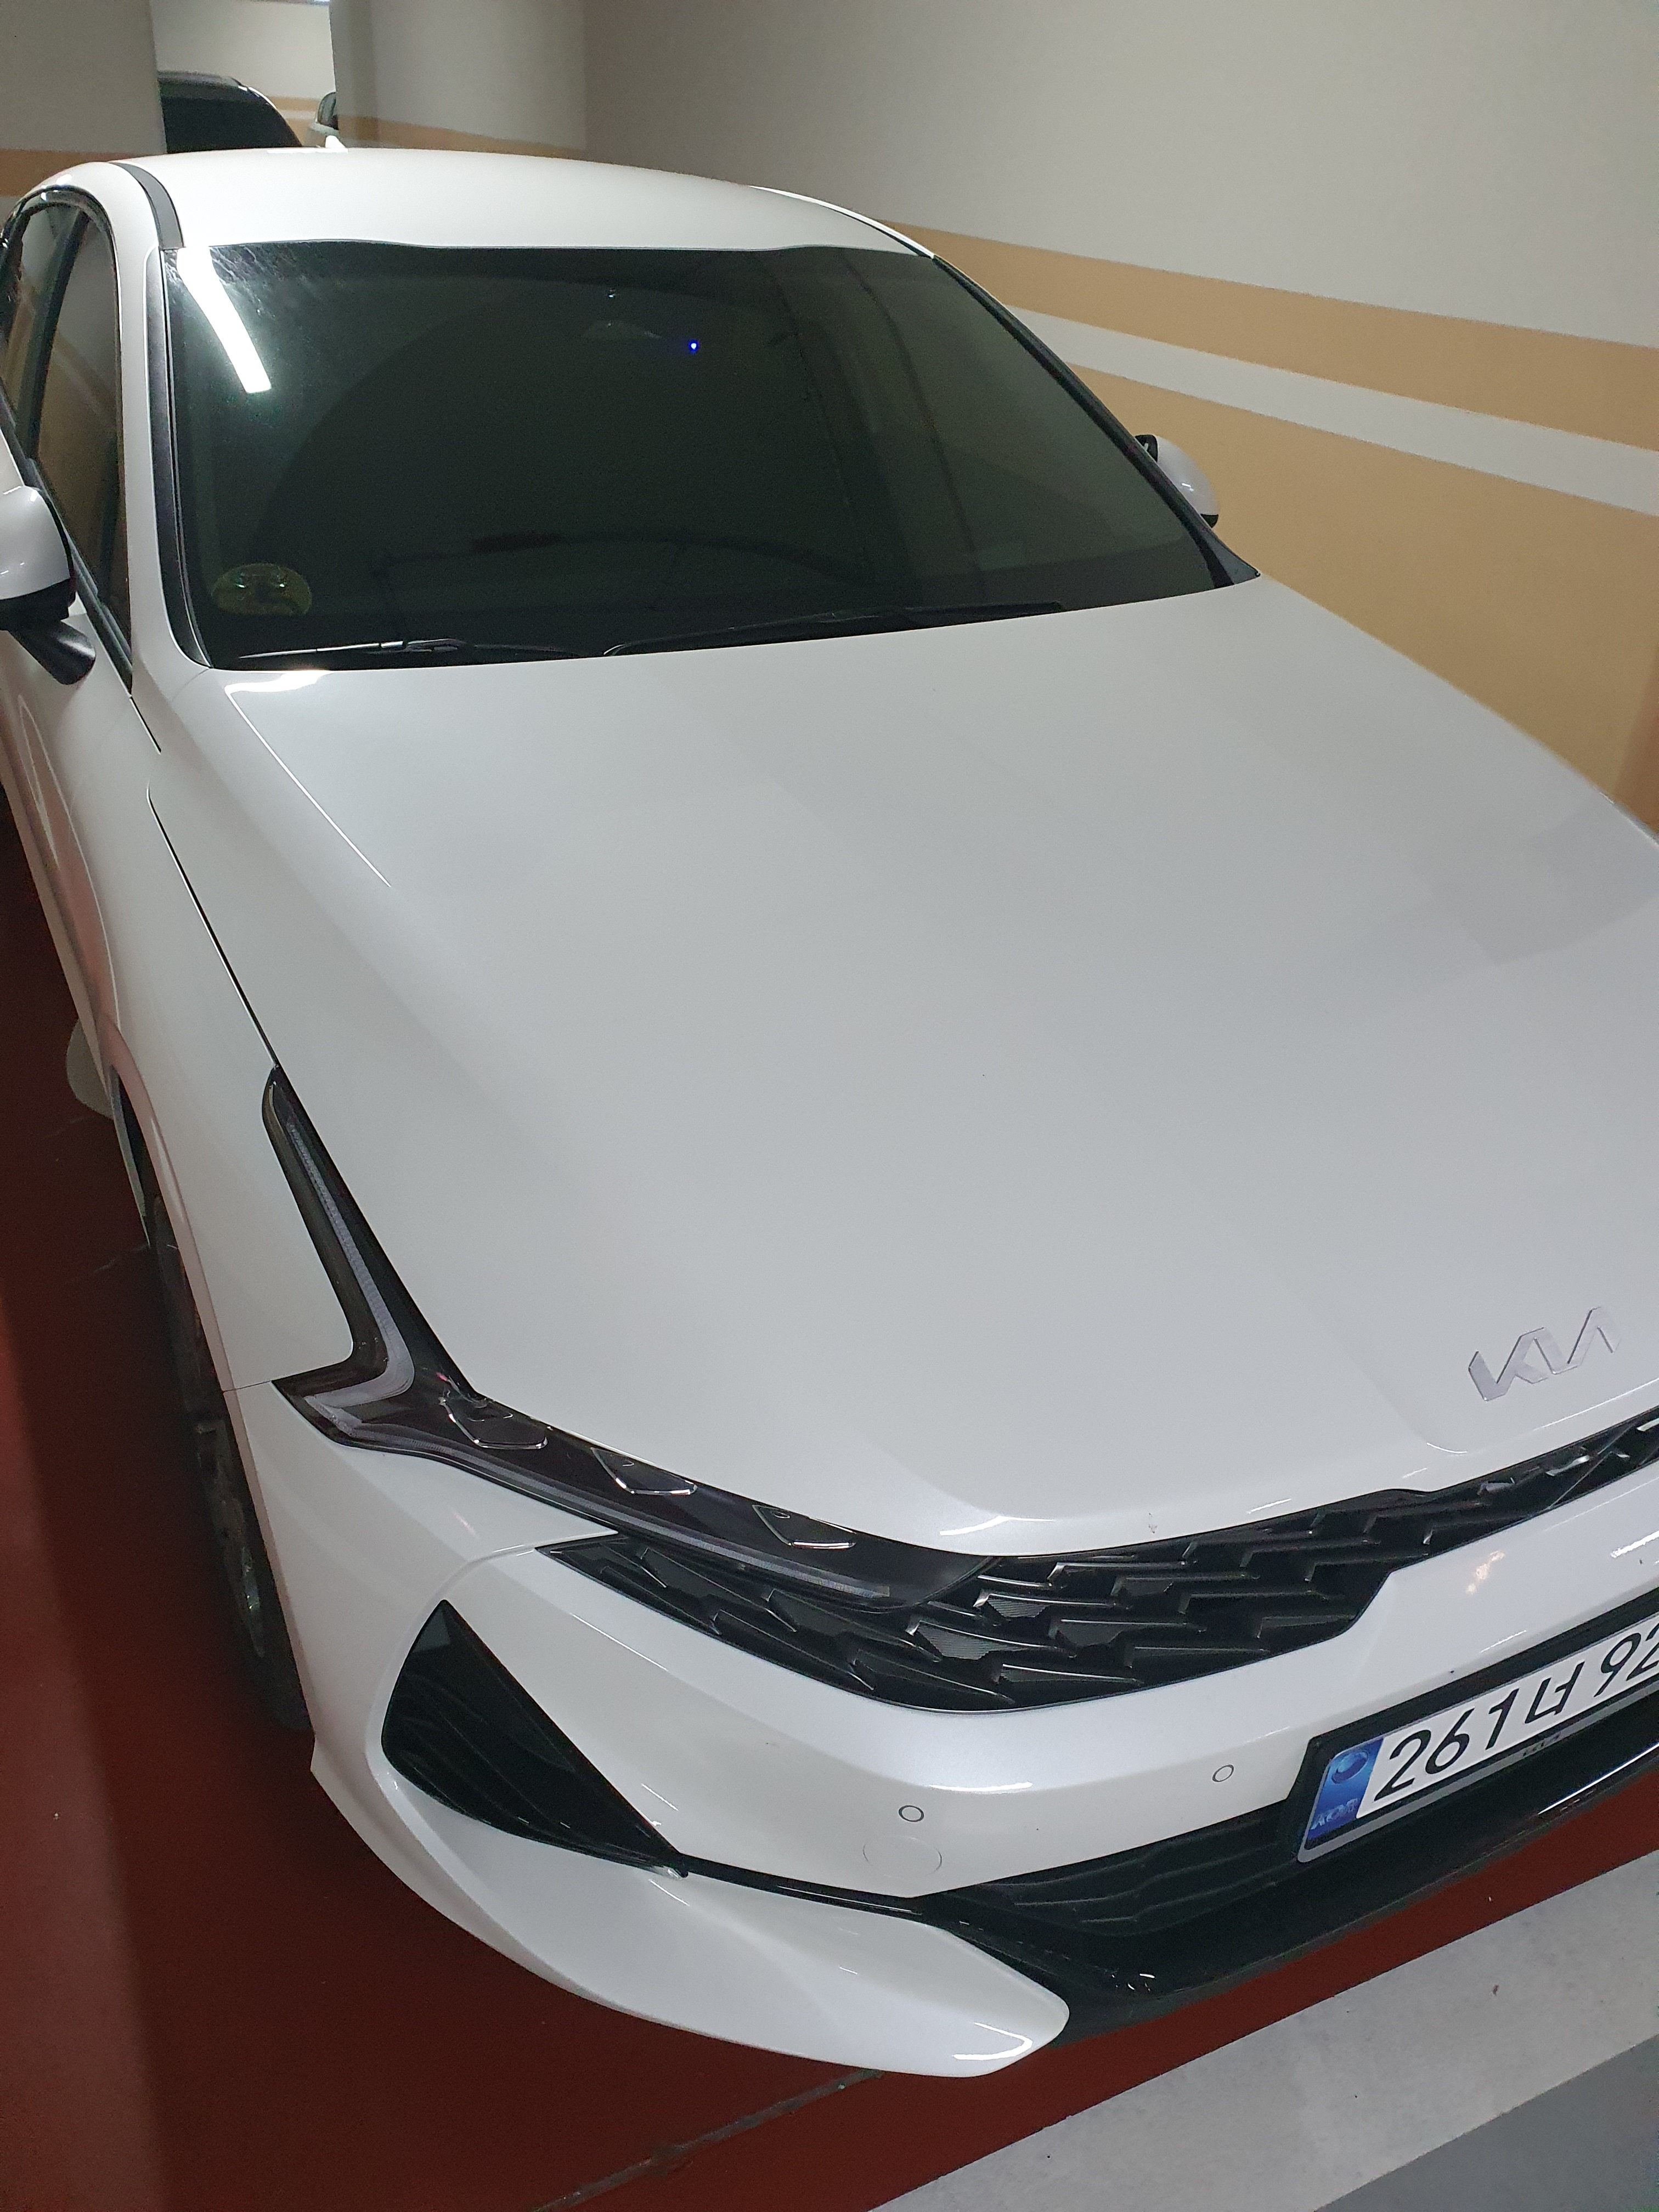disabled_parking: (206, 556, 321, 620)
